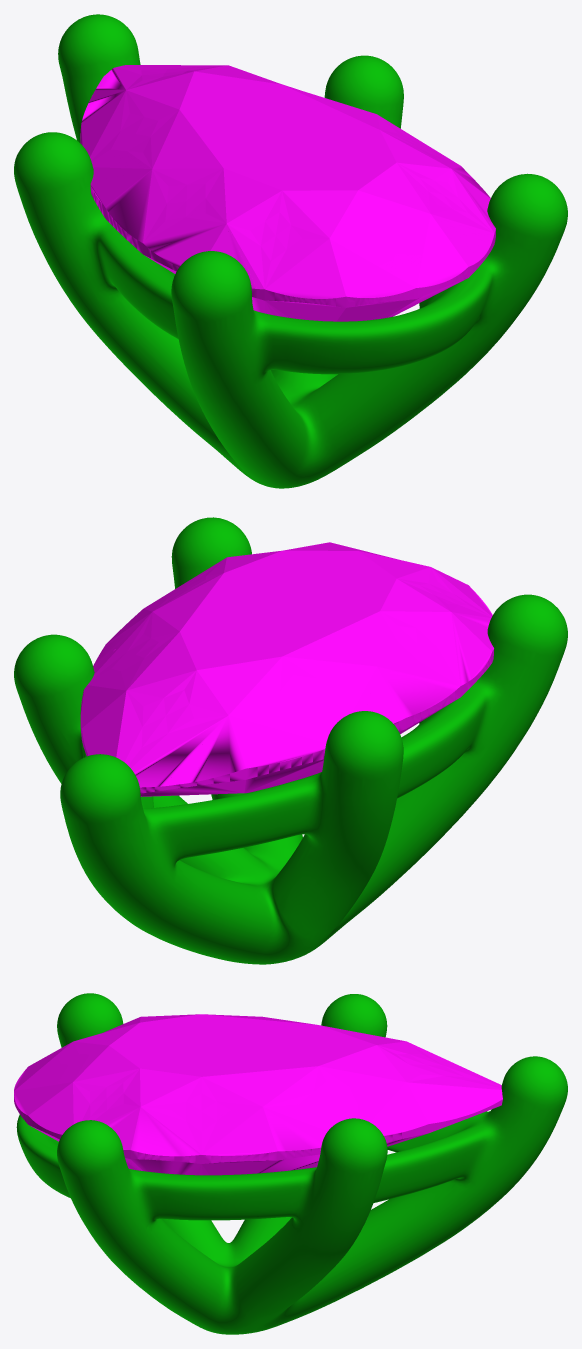
3 renders of one model, top to bottom at view 1: azimuth 30°, elevation 25°; view 2: azimuth 150°, elevation 25°; view 3: azimuth 270°, elevation 25°, orthographic. The views are drawn at different scales.
Visible parts, largest first — view 1: Metal01, Diamond_Pear; view 2: Metal01, Diamond_Pear; view 3: Metal01, Diamond_Pear.
Part boxes in pixels (x1=…): Metal01: x1=14, y1=14, x2=567, y2=488; Diamond_Pear: x1=80, y1=65, x2=495, y2=321; Metal01: x1=14, y1=517, x2=567, y2=964; Diamond_Pear: x1=80, y1=542, x2=494, y2=796; Metal01: x1=16, y1=993, x2=567, y2=1334; Diamond_Pear: x1=14, y1=1014, x2=502, y2=1175.
Size of the model in its own units: 6.62 by 5.67 by 10.01.
